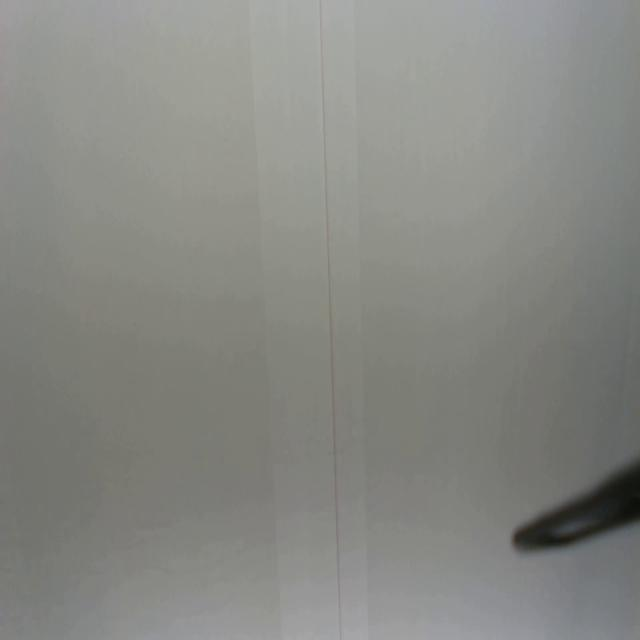crease: (316, 0, 344, 640)
